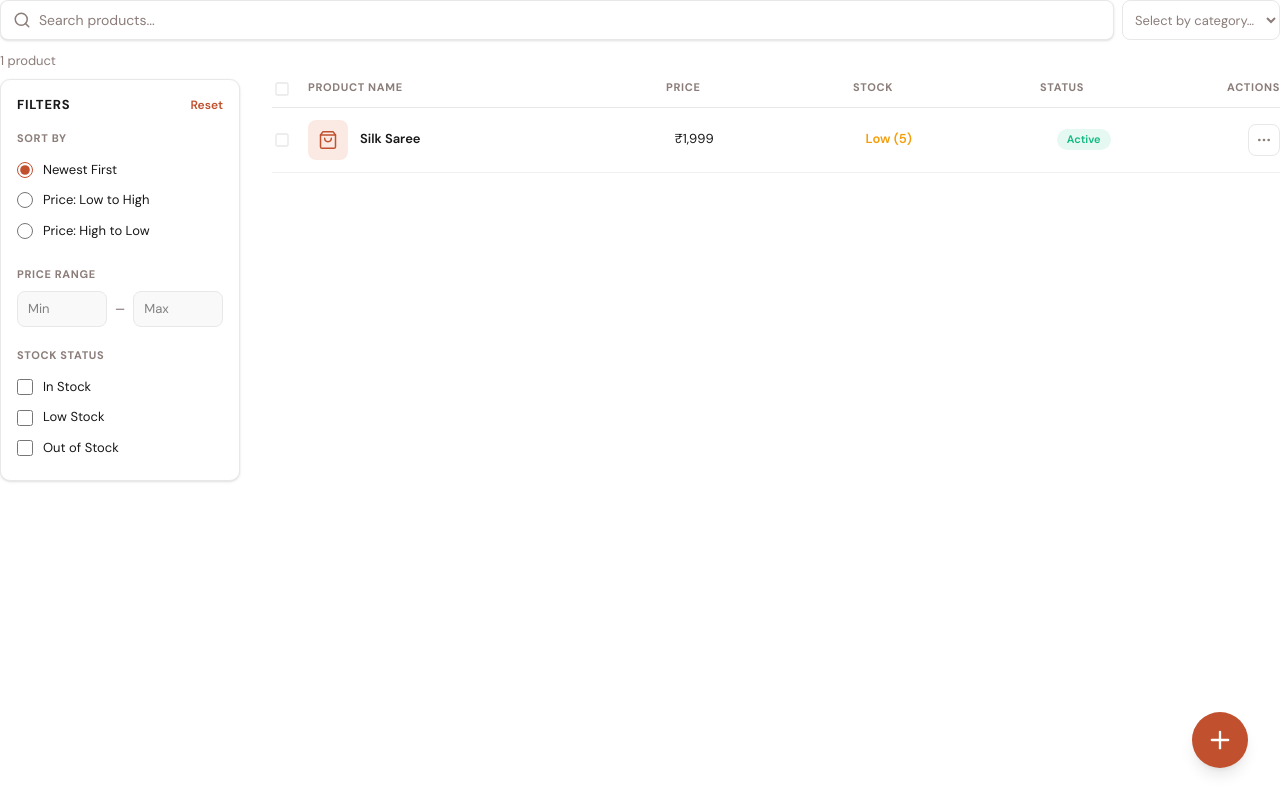
Test case: AdminProductsClient › prefills the weight of the product being edited
The width and height of the screenshot is (1280, 800).
Click the 4th button: (1264, 140) [1248,124,1279,156]
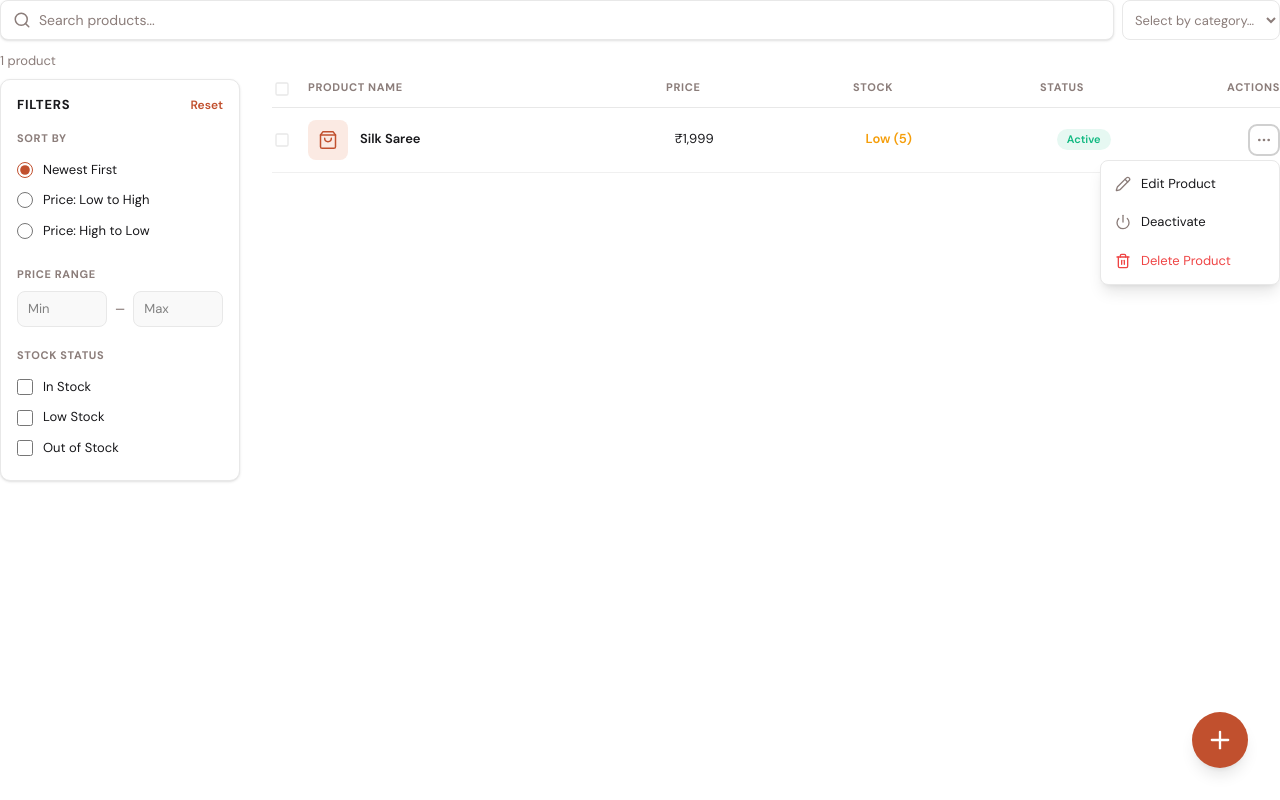
Click the button "Edit Product": (1190, 184) [1101,165,1279,203]
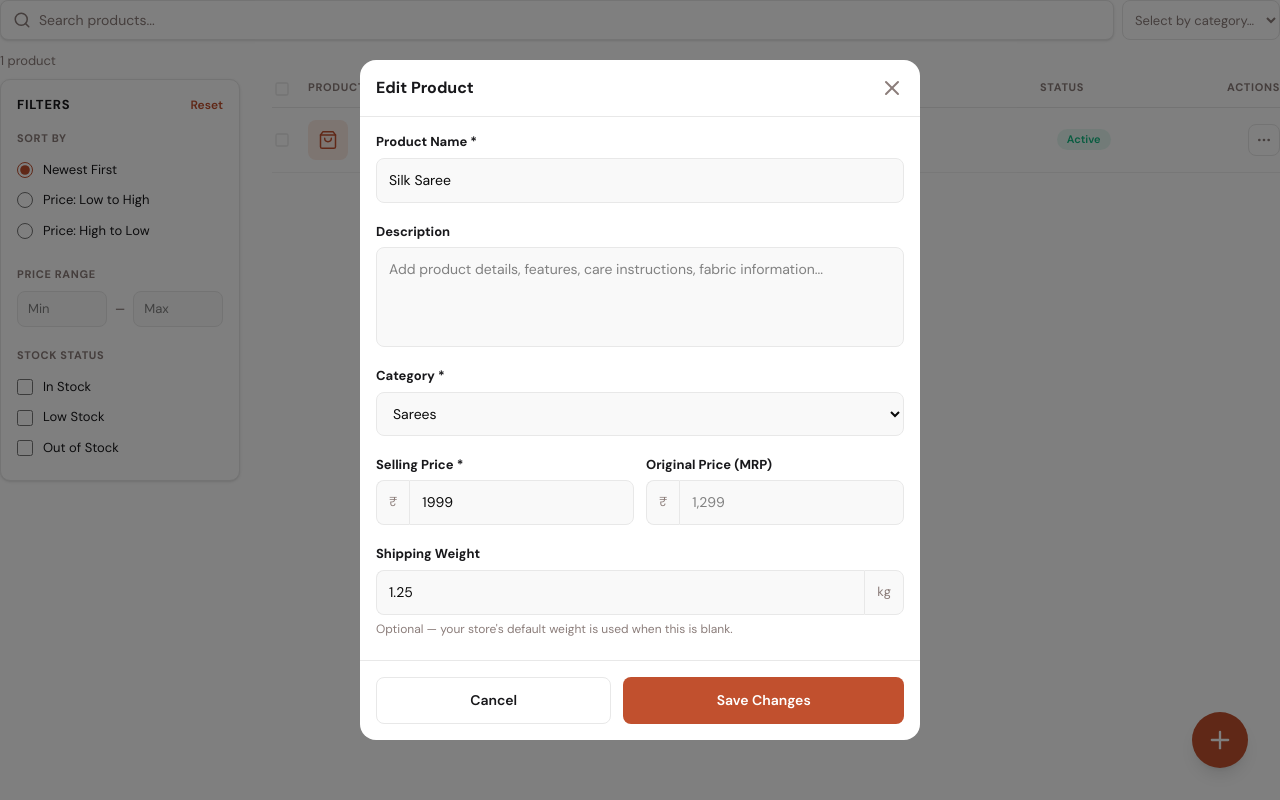
Now the number field named "weight" holds "1.25", box [376,570,864,615]
